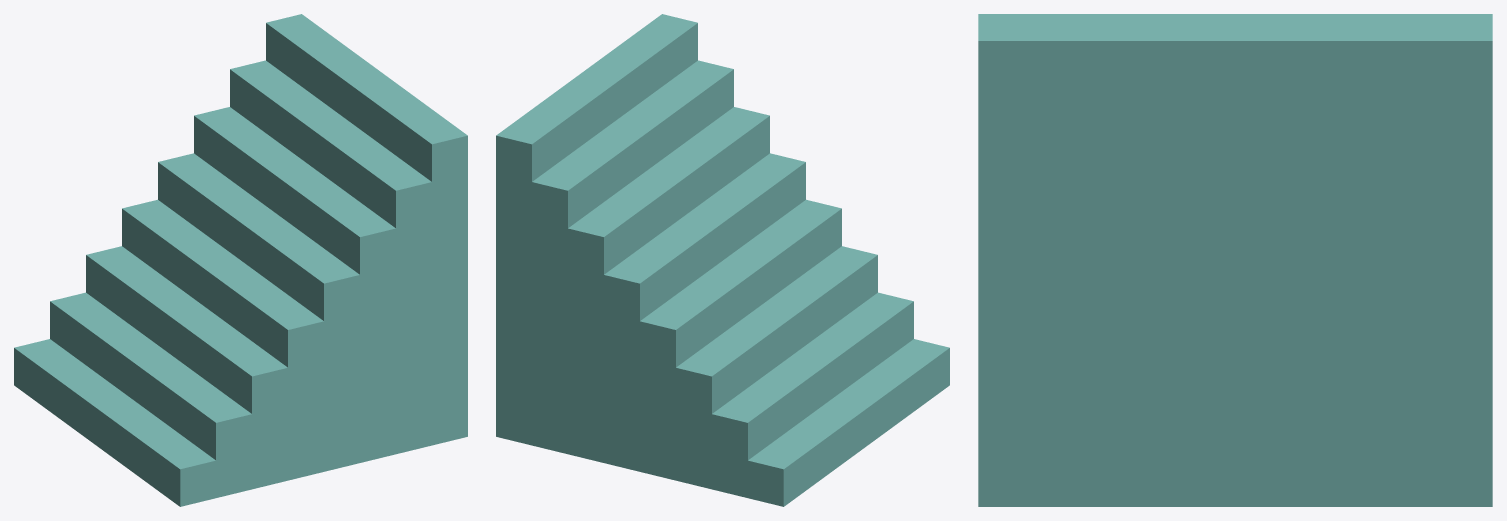
The model's file is EspacioInicialEscaleraExteriorG.gltf.
The picture shows the model from 3 angles, left to right: view 1: azimuth 30°, elevation 25°; view 2: azimuth 150°, elevation 25°; view 3: azimuth 270°, elevation 25°; orthographic projection. The views are drawn at different scales.
Visible parts, largest first — view 1: Escalera.15; view 2: Escalera.15; view 3: Escalera.15.
Part boxes in pixels (x1,y1,x2,y2): Escalera.15: [14, 14, 467, 506]; Escalera.15: [496, 14, 949, 506]; Escalera.15: [978, 14, 1492, 506].
Size of the model in its own units: 2 by 2 by 2.
